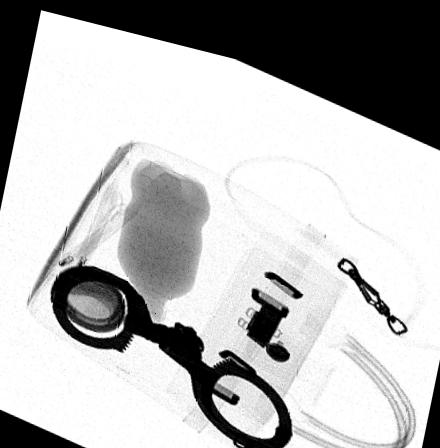HandCuffs: (45, 259, 293, 442)
